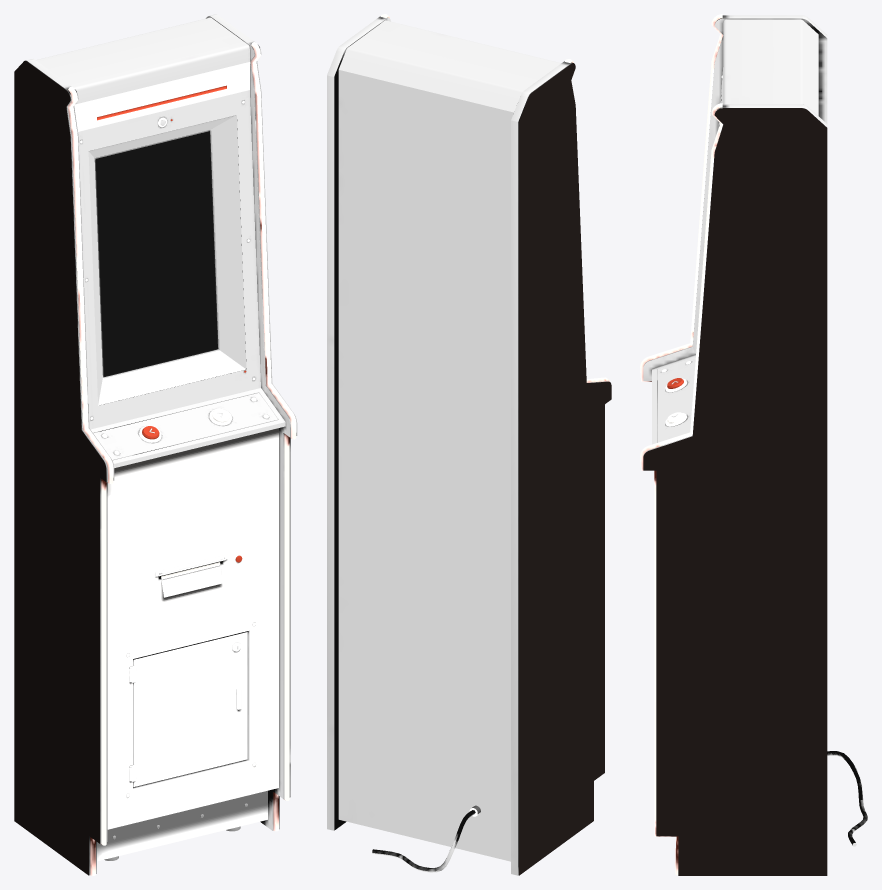
The model's file is mach-briefly-v2.glb.
The picture shows the model from 3 angles, left to right: view 1: azimuth 30°, elevation 25°; view 2: azimuth 150°, elevation 25°; view 3: azimuth 270°, elevation 25°; orthographic projection.
Parts seen in each view (by area): view 1: body, side_art_l, screen, glass, trim, controls, metal; view 2: body, side_art_l, cable; view 3: side_art_r, body, trim, cable.
Boxes of the visible parts, bbox=[...] form: body: bbox=[26, 14, 297, 875]; side_art_l: bbox=[14, 60, 106, 875]; screen: bbox=[95, 131, 217, 376]; glass: bbox=[96, 132, 219, 377]; trim: bbox=[68, 42, 296, 875]; controls: bbox=[160, 119, 246, 649]; metal: bbox=[80, 100, 268, 860]; body: bbox=[327, 16, 608, 875]; side_art_l: bbox=[519, 63, 611, 875]; cable: bbox=[372, 810, 475, 872]; side_art_r: bbox=[643, 108, 827, 875]; body: bbox=[643, 15, 827, 455]; trim: bbox=[640, 14, 722, 874]; cable: bbox=[827, 751, 867, 846].
Size of the model in its own units: 0.503 by 1.94 by 0.5193.
19 materials, 6 textured.
